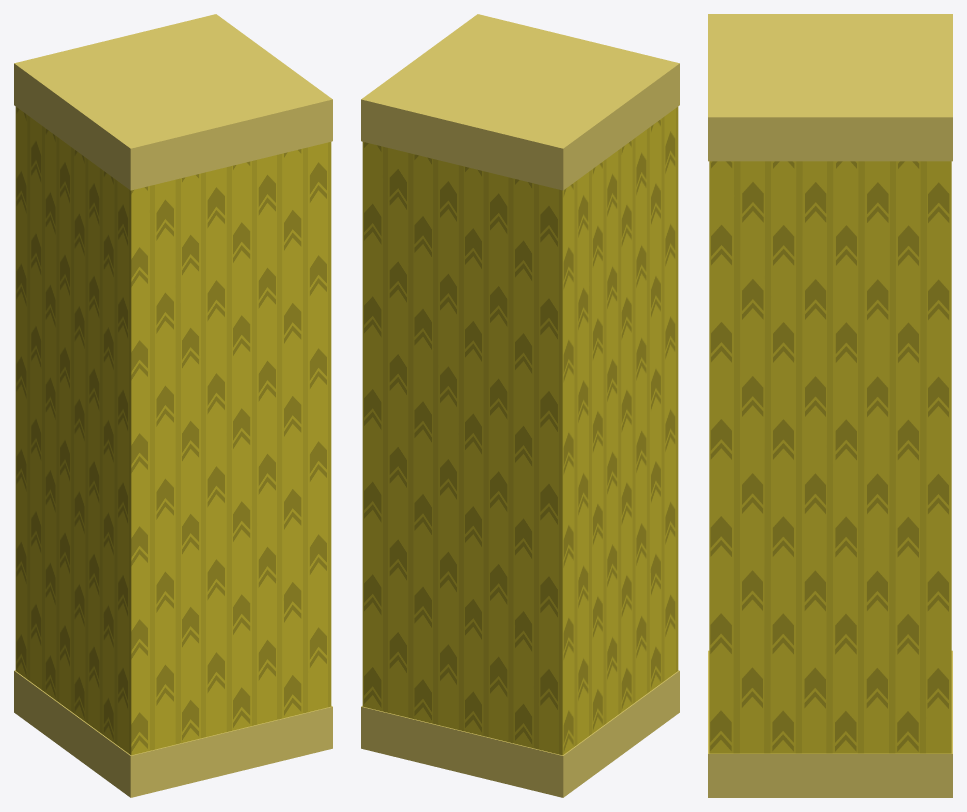
Rendered from pillar.fbx.
3 views of the same model, side by side, from view 1: azimuth 30°, elevation 25°; view 2: azimuth 150°, elevation 25°; view 3: azimuth 270°, elevation 25° (orthographic). The views are drawn at different scales.
Parts seen in each view (by area): view 1: Cube, 立方体.001, 立方体; view 2: Cube, 立方体.001, 立方体; view 3: Cube, 立方体.001, 立方体.
Boxes of the visible parts, x1,y1,x2,y2 form: Cube: (15, 106, 331, 755); 立方体.001: (14, 14, 332, 190); 立方体: (14, 670, 332, 797); Cube: (362, 106, 678, 755); 立方体.001: (361, 14, 679, 190); 立方体: (361, 670, 679, 797); Cube: (709, 161, 951, 753); 立方体.001: (708, 14, 952, 161); 立方体: (708, 650, 952, 797).
Bounding box in the file's own units: 202 × 620 × 202.
